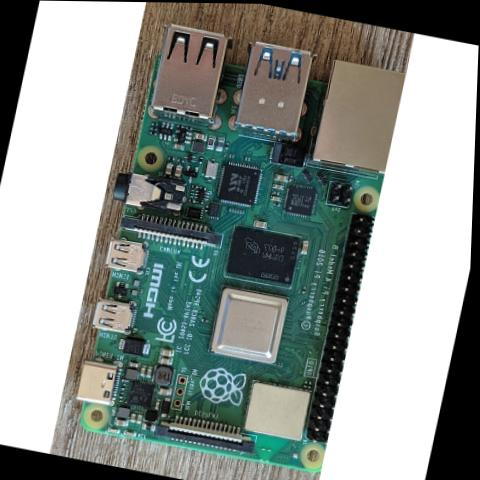Raspberry-Pi-4-Model-B: (58, 11, 409, 480)
